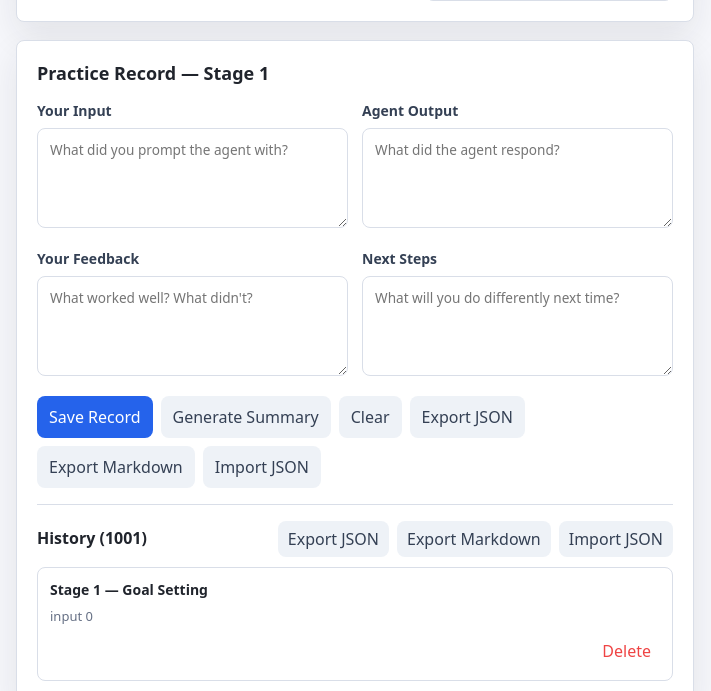
Test case: CodeAgentFlowVizPlugin › does not download partial JSON when a later page throws
The image size is (711, 691).
(page scrolled)
Expected: the heading "History (1001)" is shown, [37,528,147,549]
Click the 1st button "Export JSON" at x=467, y=416, box [410,396,525,438]
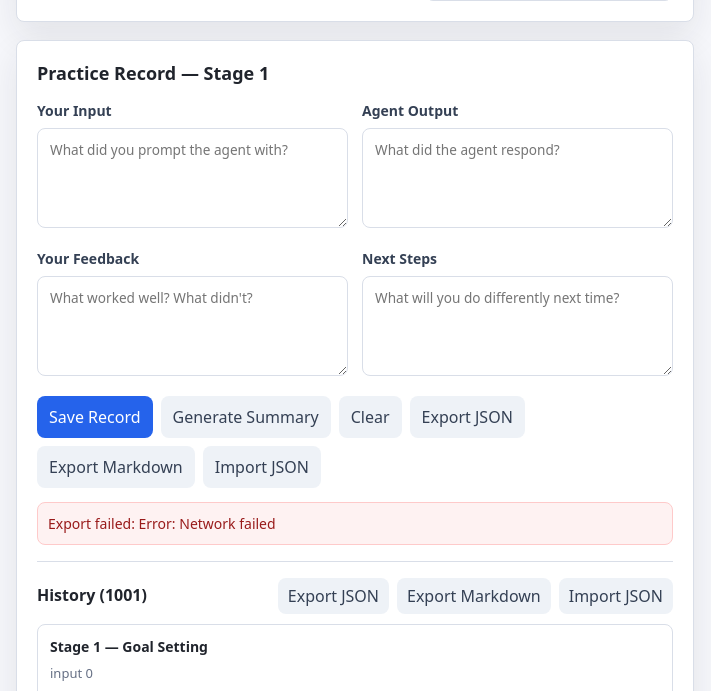
Now the text "Export failed: Error: Network failed" is shown, box [37,502,673,544]
